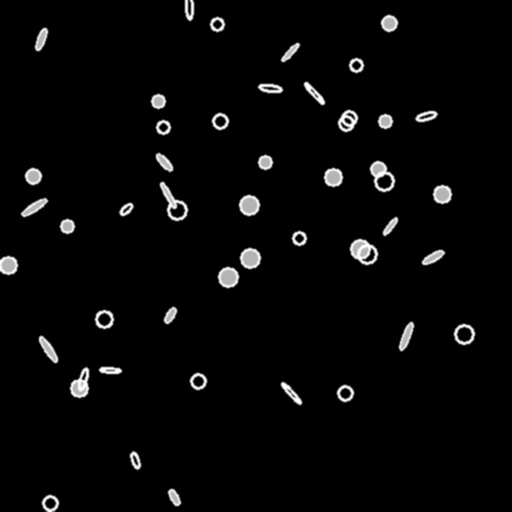pseudomonas: (37, 335, 59, 363), (302, 81, 326, 105), (20, 197, 48, 217), (280, 382, 302, 404), (159, 182, 177, 208), (398, 322, 414, 350), (280, 42, 300, 62), (381, 216, 399, 236), (422, 249, 444, 265), (76, 367, 90, 391), (155, 153, 173, 171), (34, 28, 48, 50), (415, 110, 437, 122), (118, 201, 134, 217), (167, 488, 181, 506), (163, 307, 177, 323), (259, 83, 281, 93), (130, 451, 140, 469), (185, 0, 193, 19), (100, 367, 120, 373)
synechocystis: (351, 240, 369, 258), (358, 245, 376, 263), (241, 249, 259, 267), (240, 196, 258, 214), (168, 201, 186, 219), (455, 325, 473, 343), (375, 172, 393, 190), (219, 268, 237, 286), (96, 311, 112, 327), (325, 169, 341, 185), (71, 380, 87, 396), (434, 186, 450, 202), (0, 257, 16, 273), (213, 114, 227, 128), (382, 16, 396, 30), (339, 116, 353, 130), (371, 162, 385, 176), (191, 374, 205, 388), (26, 169, 40, 183), (338, 386, 352, 400), (43, 496, 57, 510), (342, 111, 356, 125), (379, 115, 391, 127), (61, 220, 73, 232), (350, 59, 362, 71), (293, 232, 305, 244), (259, 156, 271, 168), (152, 95, 164, 107), (157, 121, 169, 133), (211, 18, 223, 30)
